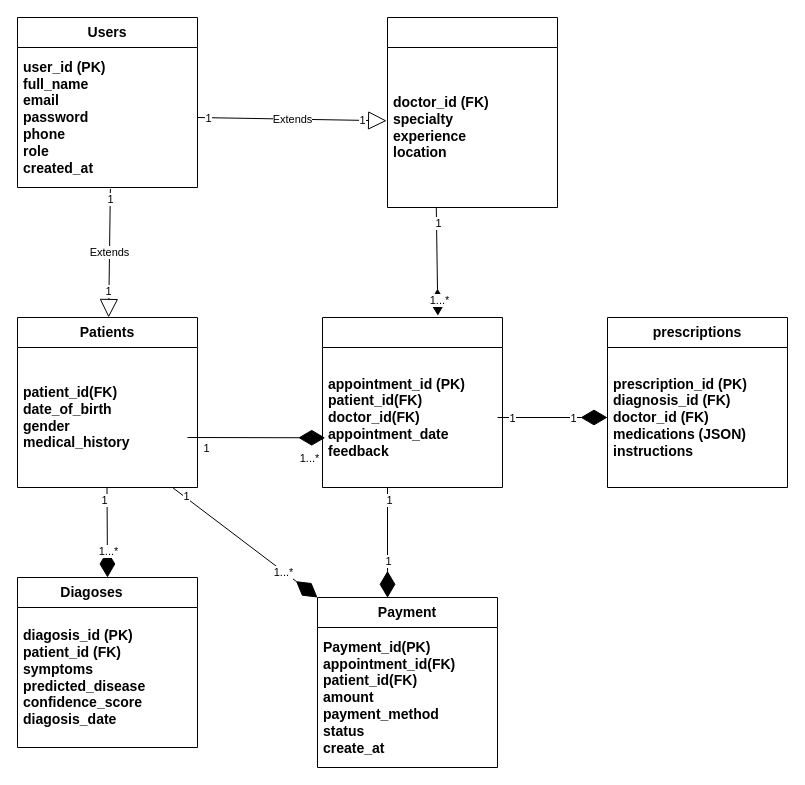
The diagram is 805 pixels wide and 785 high, and some of its shapes have lost their labels. Each missing label, with the box of its shape:
Appointments: (322, 316, 502, 488)
Doctors: (386, 16, 558, 208)
